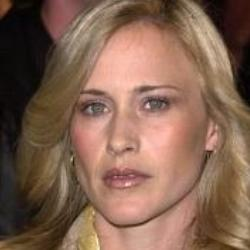face: (15, 1, 250, 224)
